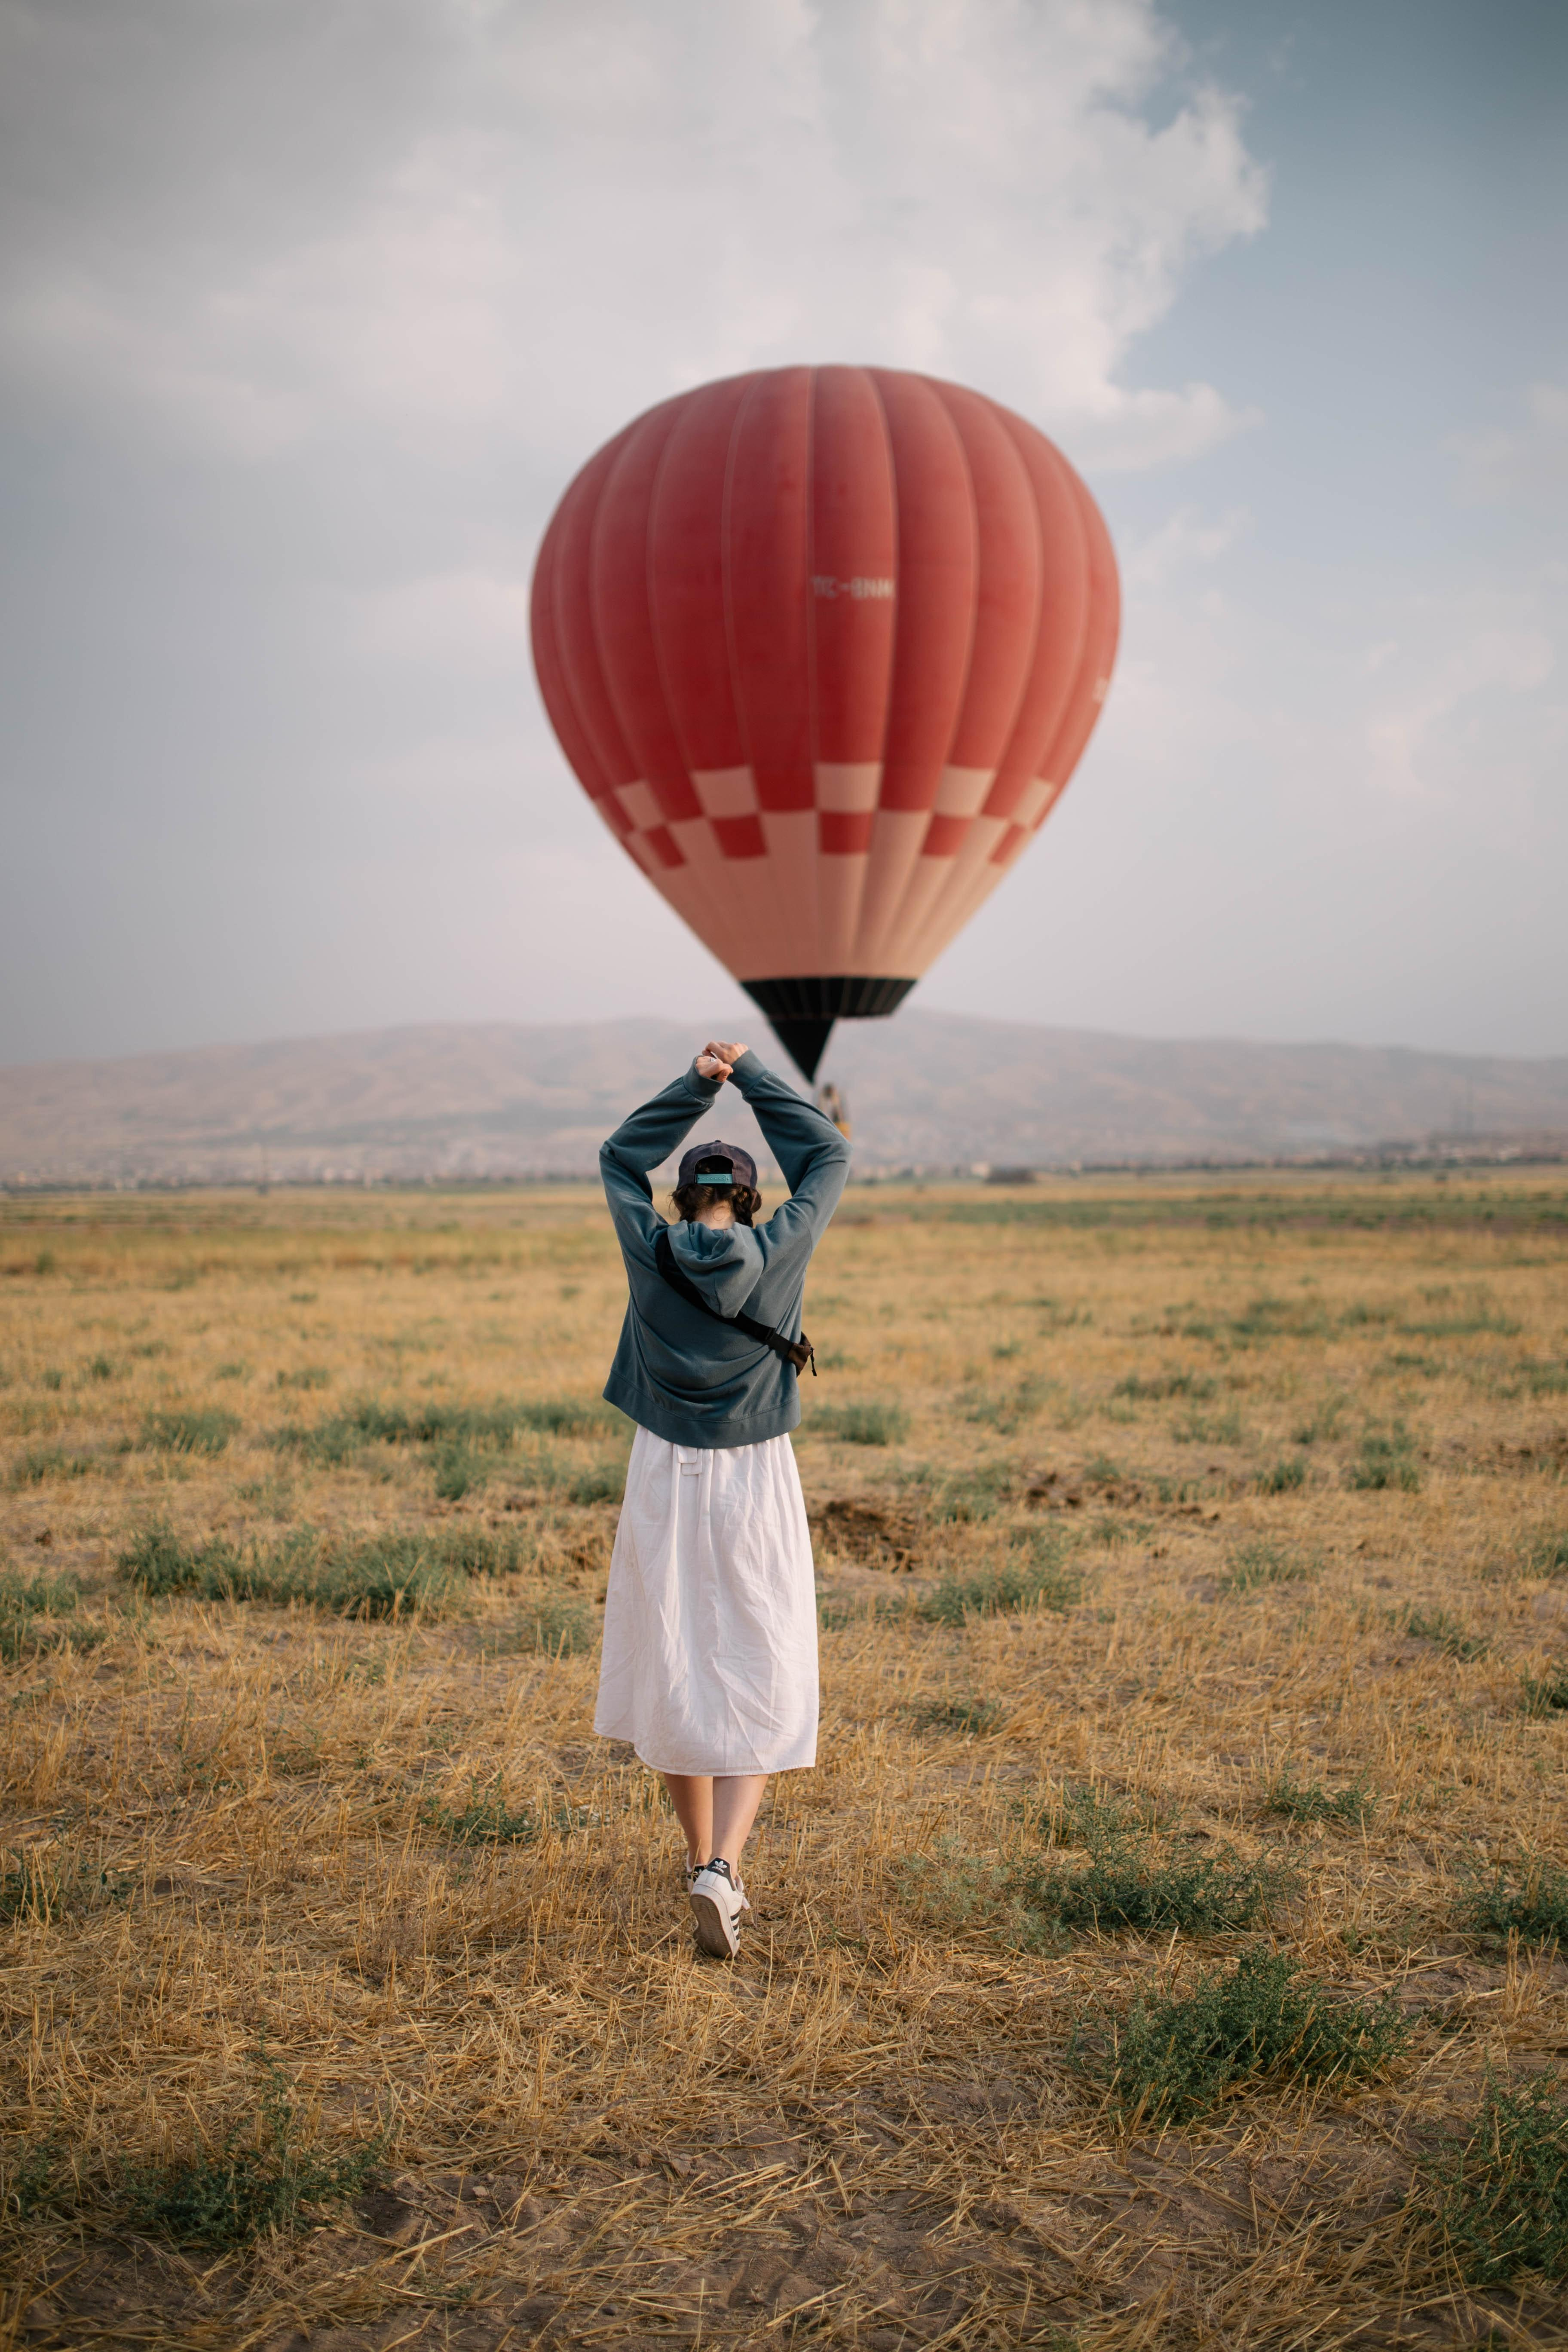hot air ballon: (514, 350, 1123, 1150)
